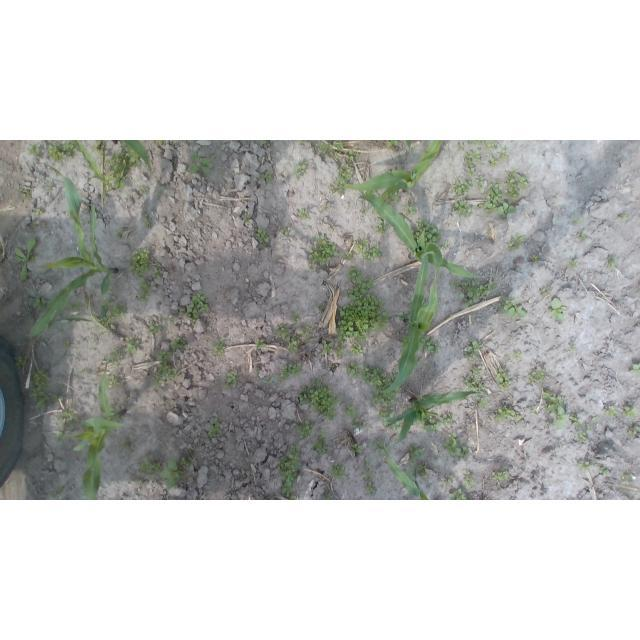Maize: (28, 166, 117, 340), (363, 245, 441, 398), (351, 192, 483, 281), (64, 355, 127, 500), (339, 141, 444, 202), (383, 386, 486, 443), (376, 440, 430, 500), (111, 140, 154, 174)
Weeds: (337, 294, 392, 340), (105, 143, 141, 190), (300, 380, 341, 420), (29, 368, 58, 409), (278, 446, 300, 497), (541, 391, 568, 430), (13, 237, 36, 281), (309, 235, 339, 266), (328, 162, 353, 196), (363, 364, 393, 391), (187, 291, 210, 326), (412, 218, 441, 245), (443, 433, 470, 461), (161, 459, 184, 490), (276, 324, 300, 352), (462, 365, 485, 393), (498, 296, 527, 318), (128, 248, 150, 276), (188, 153, 213, 176), (483, 182, 502, 212), (460, 281, 481, 308), (502, 169, 520, 199), (379, 408, 402, 430), (418, 332, 440, 355), (372, 390, 401, 407), (349, 275, 376, 293), (57, 406, 76, 430), (48, 140, 67, 164), (463, 340, 484, 361), (139, 454, 161, 474), (495, 405, 522, 421), (550, 298, 567, 322), (317, 142, 338, 161), (279, 363, 301, 381), (136, 277, 152, 301), (494, 366, 510, 390), (294, 420, 314, 439), (363, 244, 382, 263), (158, 362, 178, 380), (454, 200, 472, 219), (31, 295, 51, 312), (464, 150, 477, 176), (506, 233, 524, 251), (409, 459, 427, 477), (423, 415, 441, 433), (528, 365, 545, 384), (211, 337, 227, 357), (346, 267, 363, 285), (222, 371, 239, 389), (330, 463, 347, 481), (453, 178, 472, 194), (498, 202, 516, 218), (293, 159, 308, 178), (111, 303, 128, 319), (480, 281, 497, 297), (347, 361, 362, 379), (125, 337, 140, 355), (493, 467, 512, 481), (91, 141, 105, 160), (27, 142, 42, 159), (374, 216, 388, 234), (451, 487, 470, 500), (254, 226, 269, 242), (408, 444, 424, 459), (354, 237, 368, 254), (68, 140, 81, 158), (208, 419, 220, 438), (109, 349, 124, 364), (374, 441, 390, 455), (603, 406, 620, 419), (463, 472, 475, 489), (313, 441, 330, 453), (349, 343, 363, 357), (15, 353, 29, 367), (107, 374, 121, 388), (300, 325, 313, 340), (623, 406, 638, 419), (320, 340, 332, 356), (170, 337, 186, 349), (576, 461, 593, 472), (570, 413, 583, 427), (516, 174, 528, 189), (345, 405, 360, 417), (149, 322, 164, 334), (262, 170, 275, 183), (621, 472, 634, 485), (346, 147, 358, 161), (351, 418, 365, 430), (290, 311, 302, 324), (102, 312, 114, 325), (179, 457, 193, 468), (335, 341, 345, 356), (51, 487, 66, 497), (158, 350, 173, 360), (262, 378, 278, 387), (120, 439, 132, 451), (101, 298, 113, 310), (628, 425, 640, 437), (498, 148, 509, 161), (388, 192, 401, 203), (352, 443, 365, 454), (344, 251, 358, 261), (68, 301, 82, 311), (255, 339, 267, 350), (440, 414, 452, 425), (443, 475, 454, 487), (607, 256, 618, 268), (151, 377, 163, 388), (476, 396, 488, 407), (477, 176, 486, 190), (406, 205, 417, 216), (486, 155, 498, 165), (298, 209, 310, 219), (539, 286, 551, 296), (152, 269, 164, 279), (487, 140, 498, 150), (333, 141, 343, 152), (629, 363, 640, 373), (577, 431, 588, 441), (450, 280, 460, 291), (144, 216, 153, 228), (164, 314, 176, 323), (281, 226, 291, 236), (19, 187, 29, 197), (531, 254, 541, 264), (569, 259, 579, 269), (62, 341, 72, 351), (366, 482, 375, 493), (475, 149, 482, 163), (384, 141, 398, 148), (399, 336, 407, 348), (318, 429, 327, 439), (29, 223, 39, 232), (363, 472, 374, 480), (79, 421, 87, 432), (322, 493, 334, 500), (617, 215, 629, 222), (414, 354, 421, 366), (243, 214, 252, 223), (578, 232, 587, 241), (140, 185, 148, 195), (321, 204, 331, 212), (45, 180, 53, 190), (601, 465, 609, 475), (155, 141, 166, 148), (456, 142, 465, 150), (584, 424, 593, 432), (178, 308, 186, 316), (34, 208, 42, 216), (56, 432, 64, 440), (530, 406, 538, 414), (514, 352, 523, 359), (360, 207, 368, 214), (391, 370, 398, 378), (568, 343, 576, 350), (442, 243, 450, 250), (387, 168, 404, 171), (158, 186, 165, 193), (573, 218, 580, 225), (117, 231, 124, 238), (591, 416, 598, 423), (365, 459, 371, 467), (469, 140, 478, 145), (258, 496, 269, 500), (318, 303, 324, 310), (260, 140, 268, 145), (308, 264, 316, 269), (289, 496, 299, 500), (477, 204, 483, 210), (479, 140, 486, 145), (297, 140, 305, 144), (261, 244, 267, 249), (141, 210, 147, 214), (409, 303, 412, 310), (202, 180, 206, 185), (559, 444, 562, 449)
